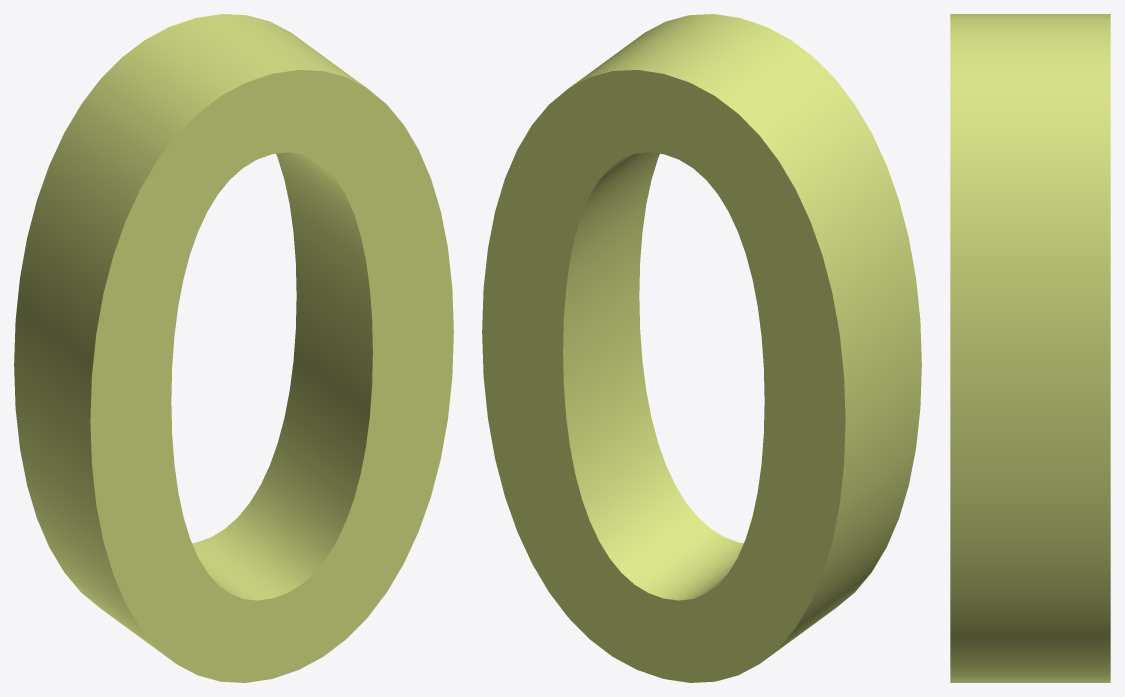
The model's file is num0.gltf.
The picture shows the model from 3 angles, left to right: view 1: azimuth 30°, elevation 25°; view 2: azimuth 150°, elevation 25°; view 3: azimuth 270°, elevation 25°; orthographic projection. The views are drawn at different scales.
Parts seen in each view (by area): view 1: num0; view 2: num0; view 3: num0.
Part boxes in pixels (<box>): num0: <box>14,14,453,682</box>; num0: <box>482,14,921,682</box>; num0: <box>950,14,1110,682</box>.
Bounding box in the file's own units: 0.44 × 0.7 × 0.16.
